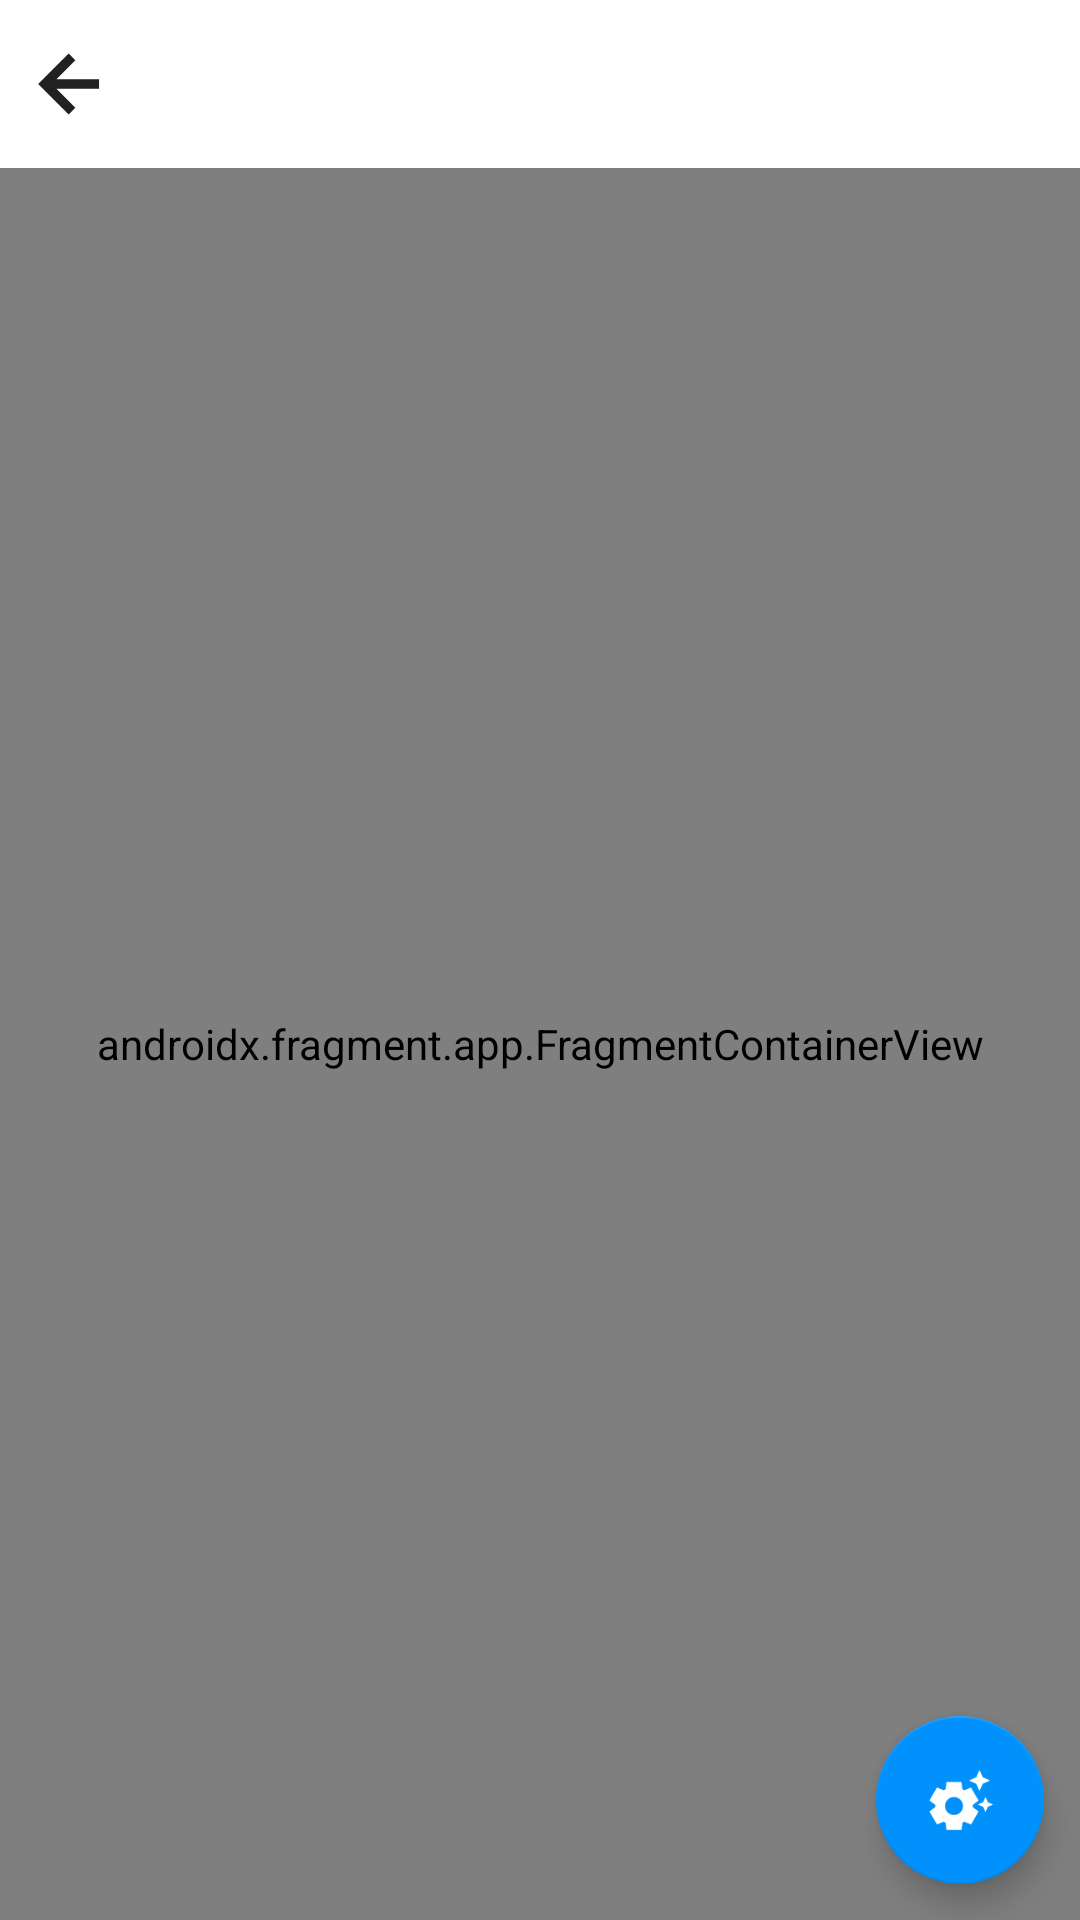

Icon bounding boxes for this 1080w x 1920h phone screenshot, format (x1, y1, x2, y2):
back: (38, 53, 99, 115)
